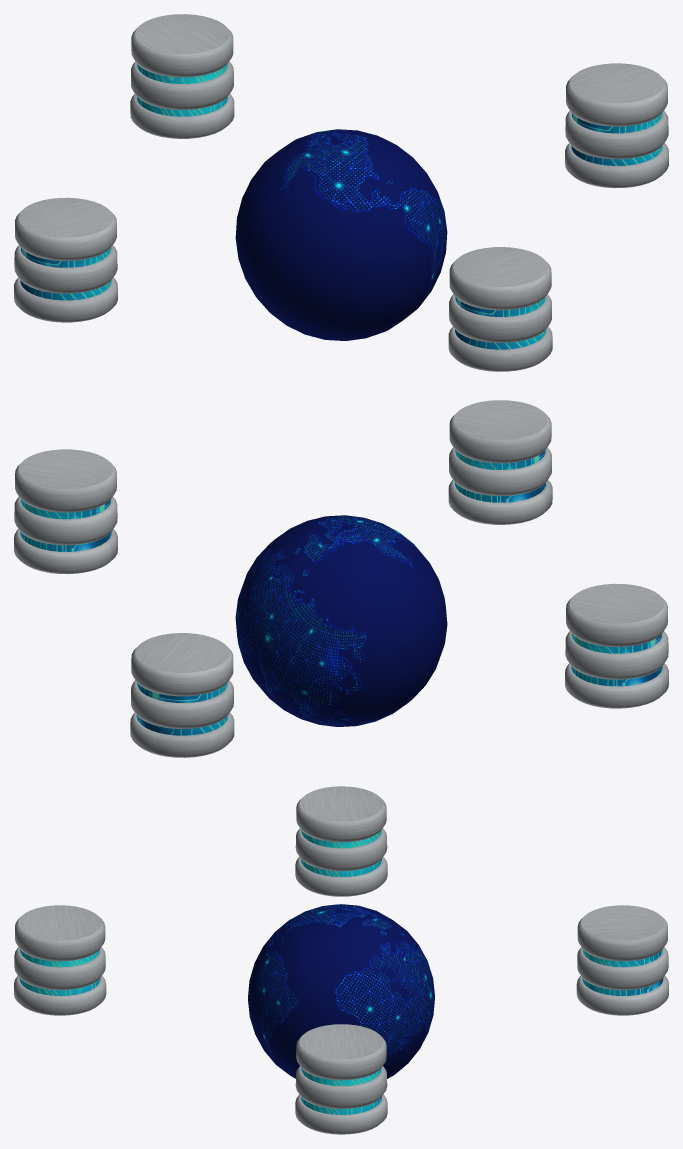
The model's file is escena1.gltf.
3 views of the same model, one above another, from view 1: azimuth 30°, elevation 25°; view 2: azimuth 150°, elevation 25°; view 3: azimuth 270°, elevation 25° (orthographic). The views are drawn at different scales.
Parts seen in each view (by area): view 1: Sphere, Cylinder.000, Cylinder.001, Cylinder.002, Cylinder.003; view 2: Sphere, Cylinder.001, Cylinder.000, Cylinder.002, Cylinder.003; view 3: Sphere, Cylinder.002, Cylinder.003, Cylinder.000, Cylinder.001.
Boxes of the visible parts, <box> form: Sphere: <box>235,129,447,340</box>; Cylinder.000: <box>448,247,552,371</box>; Cylinder.001: <box>130,14,234,138</box>; Cylinder.002: <box>565,63,668,188</box>; Cylinder.003: <box>14,197,117,322</box>; Sphere: <box>235,515,447,726</box>; Cylinder.001: <box>130,633,234,757</box>; Cylinder.000: <box>448,400,552,524</box>; Cylinder.002: <box>14,449,117,574</box>; Cylinder.003: <box>565,583,668,708</box>; Sphere: <box>248,904,434,1078</box>; Cylinder.002: <box>295,1024,387,1134</box>; Cylinder.003: <box>295,786,387,896</box>; Cylinder.000: <box>14,905,106,1015</box>; Cylinder.001: <box>576,905,668,1015</box>.
Size of the model in its own units: 13.97 by 3.99 by 13.97.
Materials: 9 (9 with a texture image).
